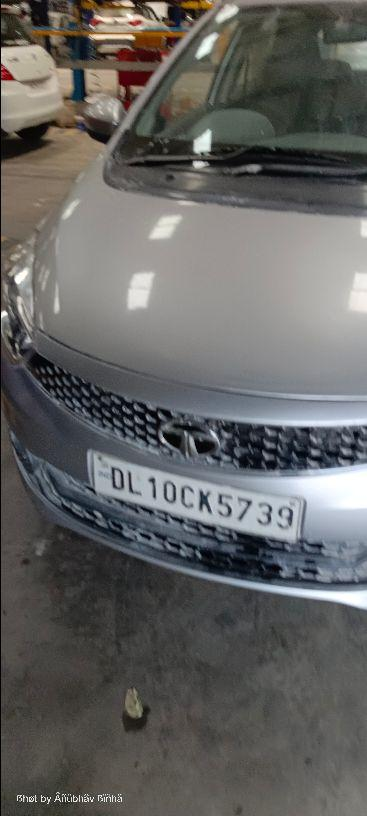license_plate: (86, 448, 306, 544)
